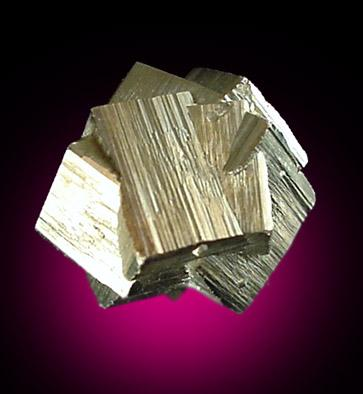pyrite: (37, 65, 314, 314)
